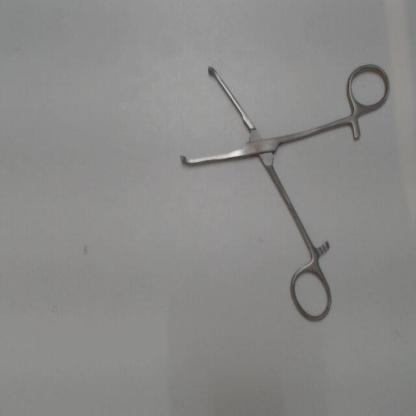Allis Tissue Forceps: (172, 52, 395, 331)
